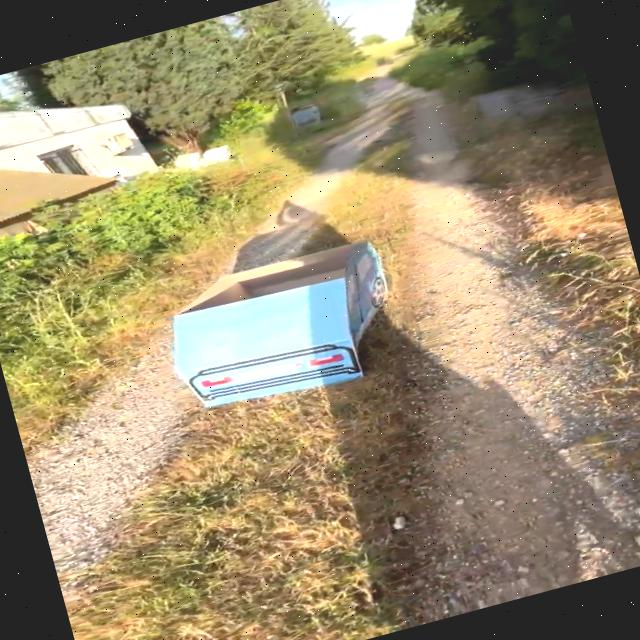blue_car: (110, 201, 446, 455)
